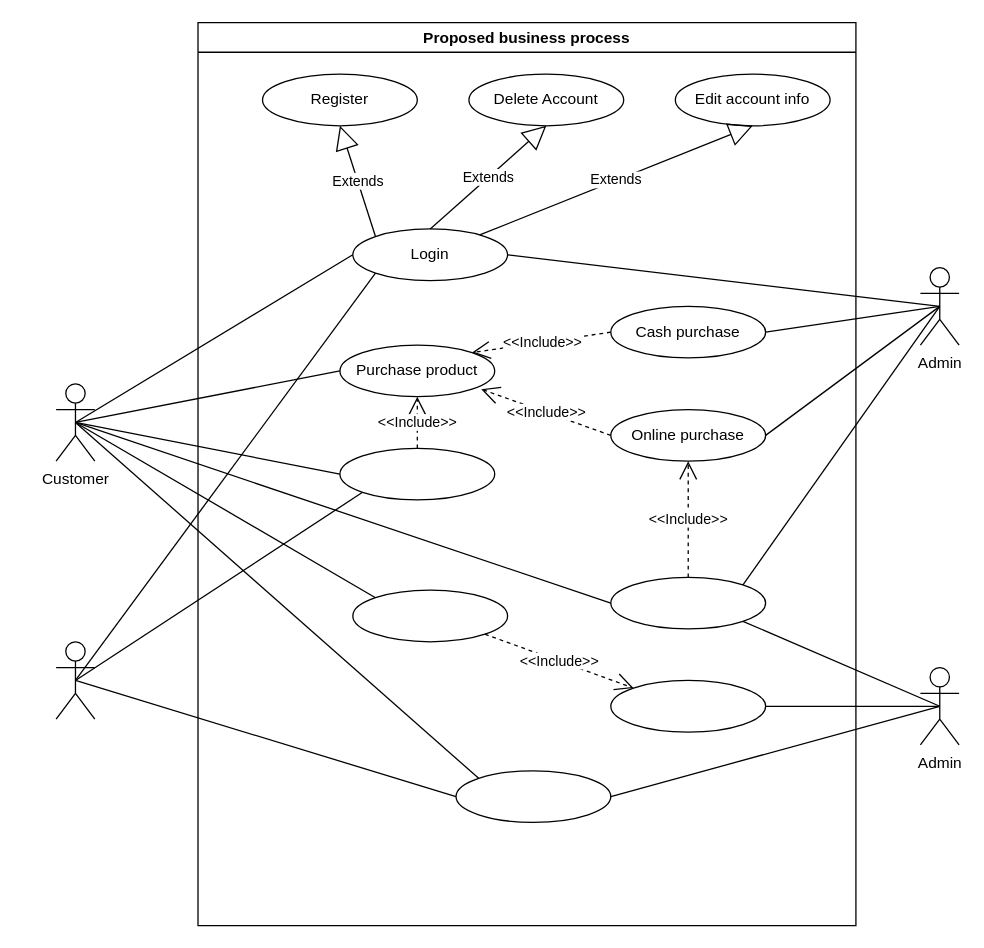
The diagram is 984 pixels wide and 948 high, and some of its shapes have lost their labels. The shapes that lost their labels are listed below. From the top down, each one's box as (x1, y1, x2, y2) in pixels, then its label:
(339, 447, 495, 500): Home Delivery
(352, 589, 508, 642): Search products
(610, 576, 766, 629): Return & refund product
(55, 640, 95, 719): Delivery person
(610, 679, 766, 732): Manage Inventory
(455, 769, 611, 822): Manage Orders
